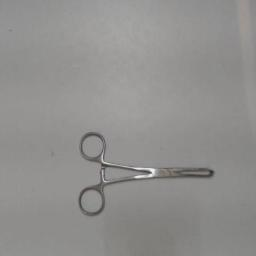Allis Tissue Forceps: (75, 126, 223, 220)
